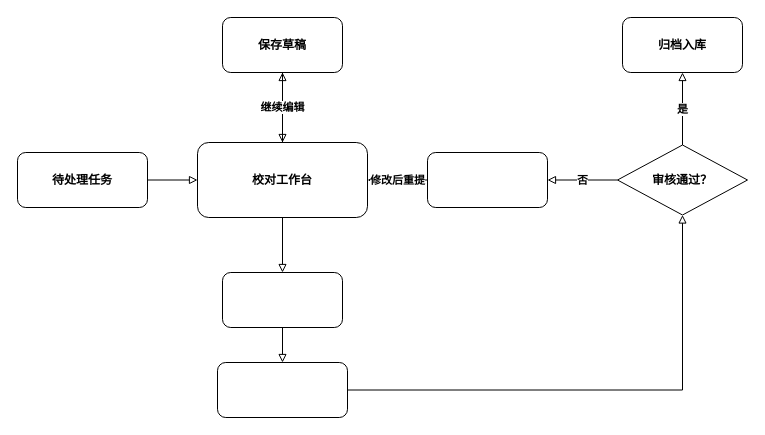
This 765x435 diagram has some shape labels left out. The shapes that lost their labels are listed below. From the top down, each one's box as (x1, y1, x2, y2) in pixels, then its label:
(426, 152, 548, 208): 驳回修改
(222, 272, 342, 328): 字段编辑
(216, 362, 348, 418): 提交审核
